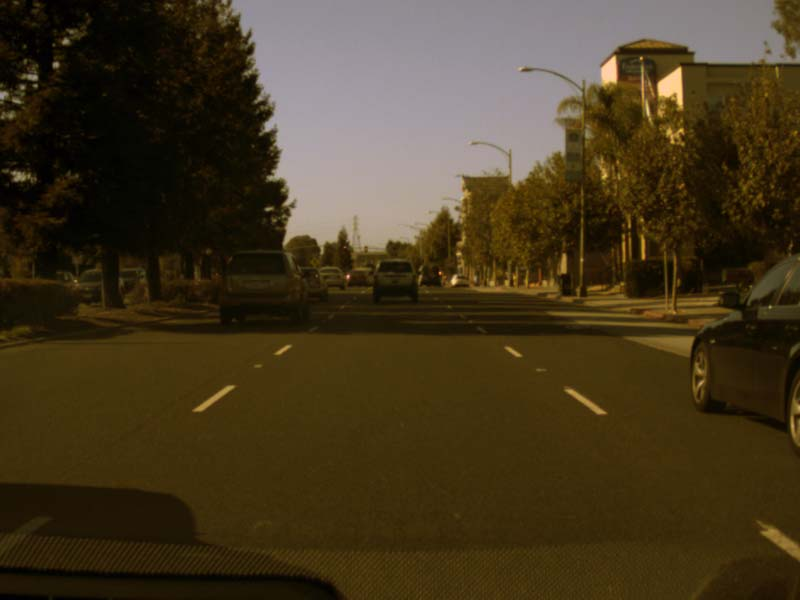Red: (342, 244, 346, 249)
